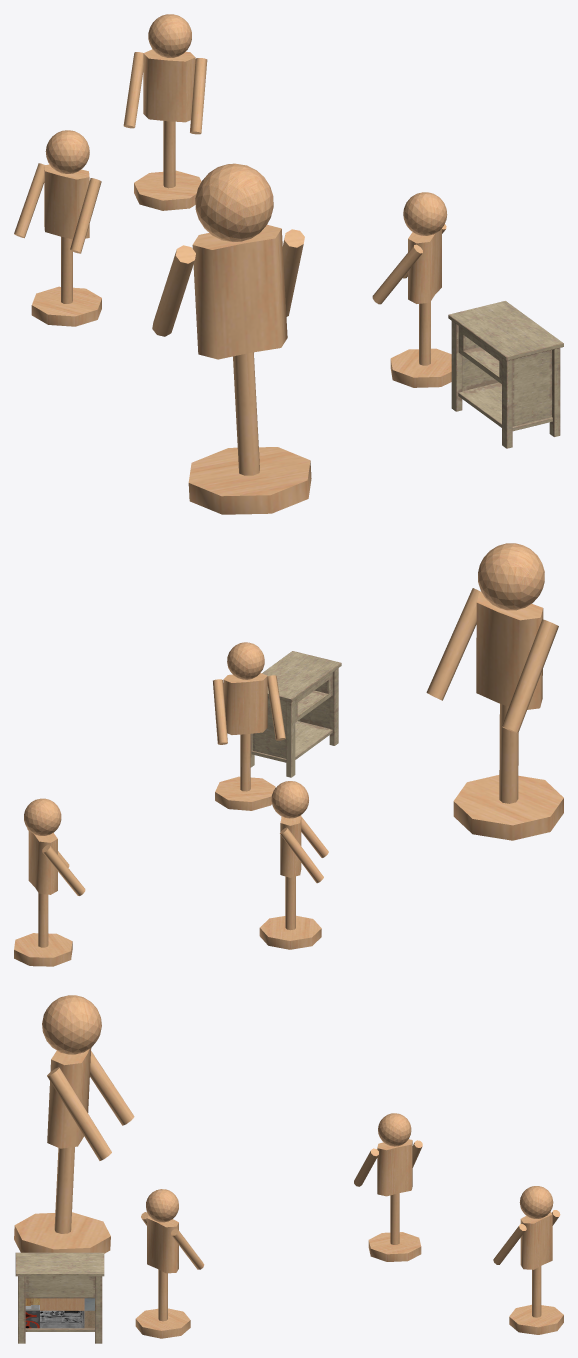
Rendered from NeighborMebel3Separated.fbx.
3 renders of one model, top to bottom at view 1: azimuth 30°, elevation 25°; view 2: azimuth 150°, elevation 25°; view 3: azimuth 270°, elevation 25°, orthographic. The views are drawn at different scales.
Parts seen in each view (by area): view 1: NeighborMebel3.056, NeighborMebel3.016, NeighborMebel3, NeighborMebel3.028, NeighborMebel3.004; view 2: NeighborMebel3.056, NeighborMebel3.004, NeighborMebel3.016, NeighborMebel3, NeighborMebel3.028; view 3: NeighborMebel3.056, NeighborMebel3.016, NeighborMebel3.028, NeighborMebel3, NeighborMebel3.004.
Boxes of the visible parts, left/top/right/bottom form: NeighborMebel3.056: left=152, top=163, right=311, bottom=514; NeighborMebel3.016: left=448, top=301, right=563, bottom=448; NeighborMebel3: left=123, top=14, right=207, bottom=210; NeighborMebel3.028: left=14, top=130, right=101, bottom=326; NeighborMebel3.004: left=372, top=192, right=451, bottom=387; NeighborMebel3.056: left=426, top=543, right=563, bottom=840; NeighborMebel3.004: left=213, top=642, right=285, bottom=810; NeighborMebel3.016: left=250, top=651, right=341, bottom=777; NeighborMebel3: left=14, top=798, right=85, bottom=966; NeighborMebel3.028: left=259, top=781, right=328, bottom=949; NeighborMebel3.056: left=14, top=995, right=134, bottom=1253; NeighborMebel3.016: left=15, top=1252, right=104, bottom=1343; NeighborMebel3.028: left=354, top=1113, right=422, bottom=1261; NeighborMebel3: left=493, top=1186, right=563, bottom=1334; NeighborMebel3.004: left=135, top=1189, right=204, bottom=1338.
Bounding box in the file's own units: 390 × 346 × 701.
